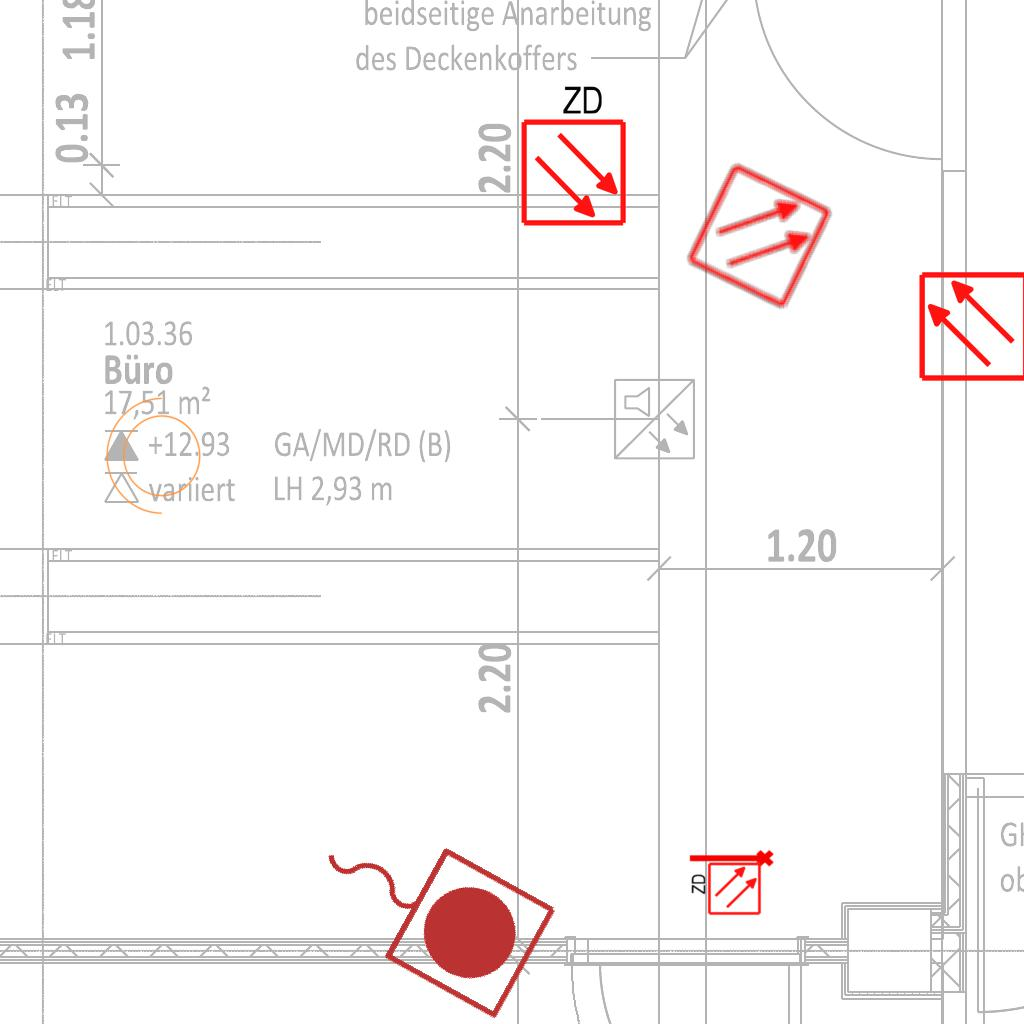ASR_Ansaugoeffnung: (687, 848, 775, 871)
RMO_Rauchmelder_optischer: (683, 159, 836, 312), (917, 270, 1024, 383)
Scheinwerfer_fuer_Alarmbeleuchtung: (101, 393, 213, 525)
ZD_Melder_in_Zwischendecke_mit_Revisionsoeffnung_mind_40_x_40_cm: (515, 79, 629, 228), (688, 861, 762, 918)
Zugtaster: (285, 784, 569, 1024)
